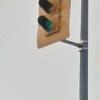Traffic light: (32, 2, 65, 42)
